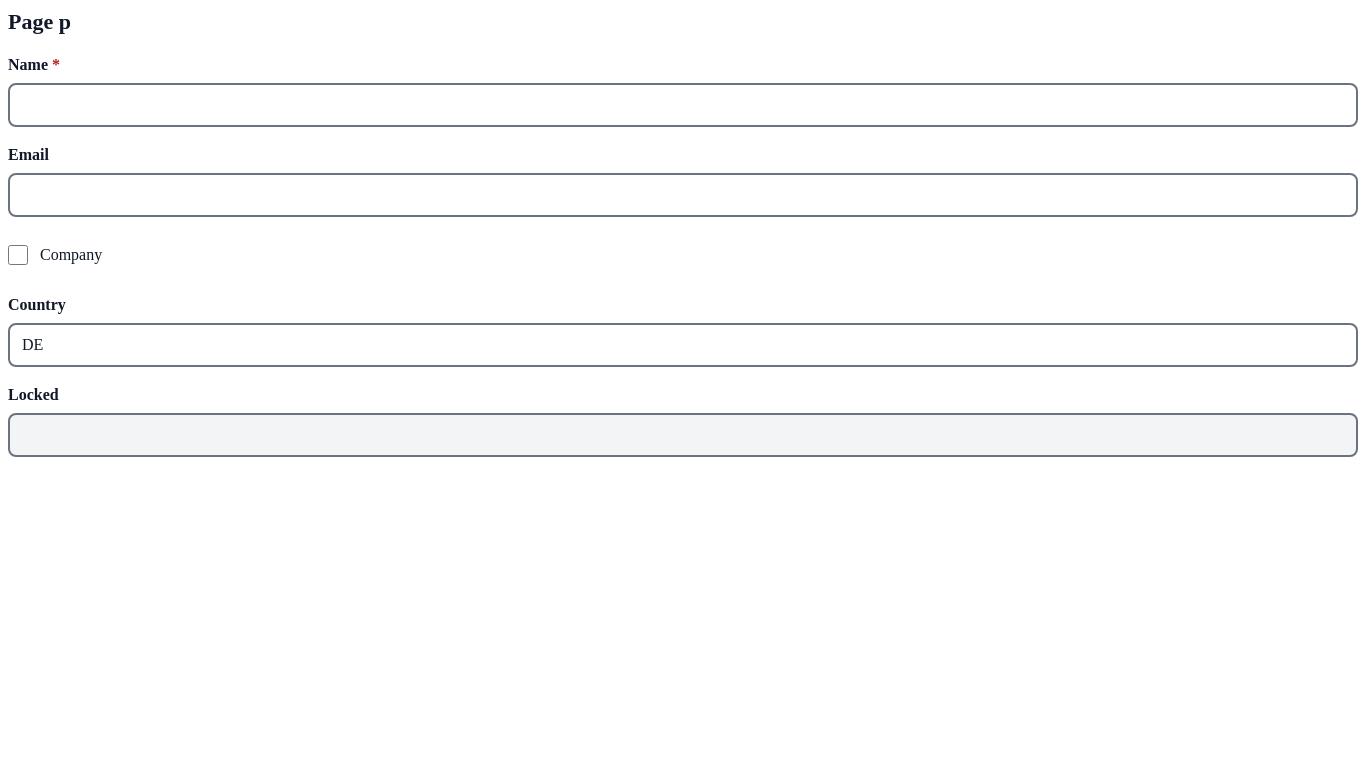
client errors › marks required fields, including requiredIf while empty
The image size is (1366, 768).
Expected: the field labelled "VAT id" is not shown
Click the checkbox labelled "Company": (18,255) [8,245,28,265]
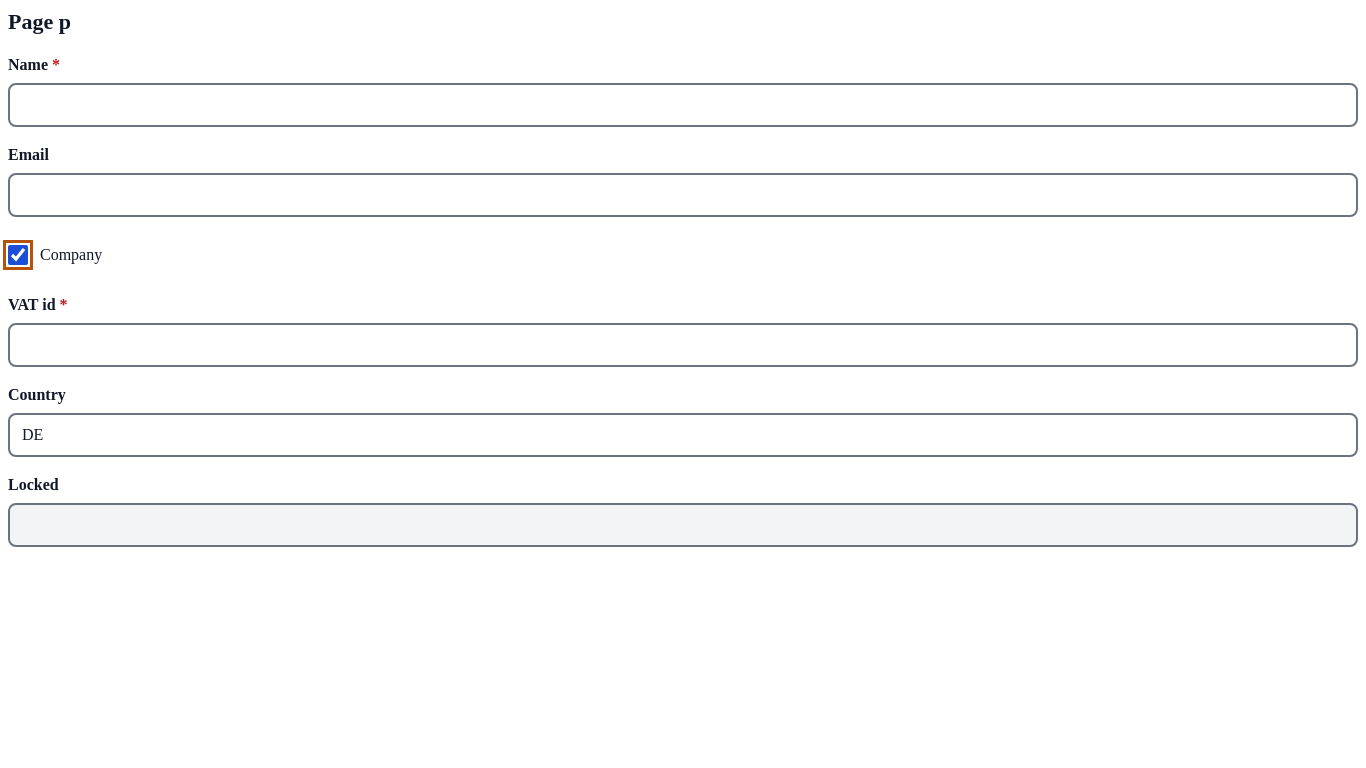
In the field labelled "VAT id *": (683,345) [8,323,1358,367], type "DE1"
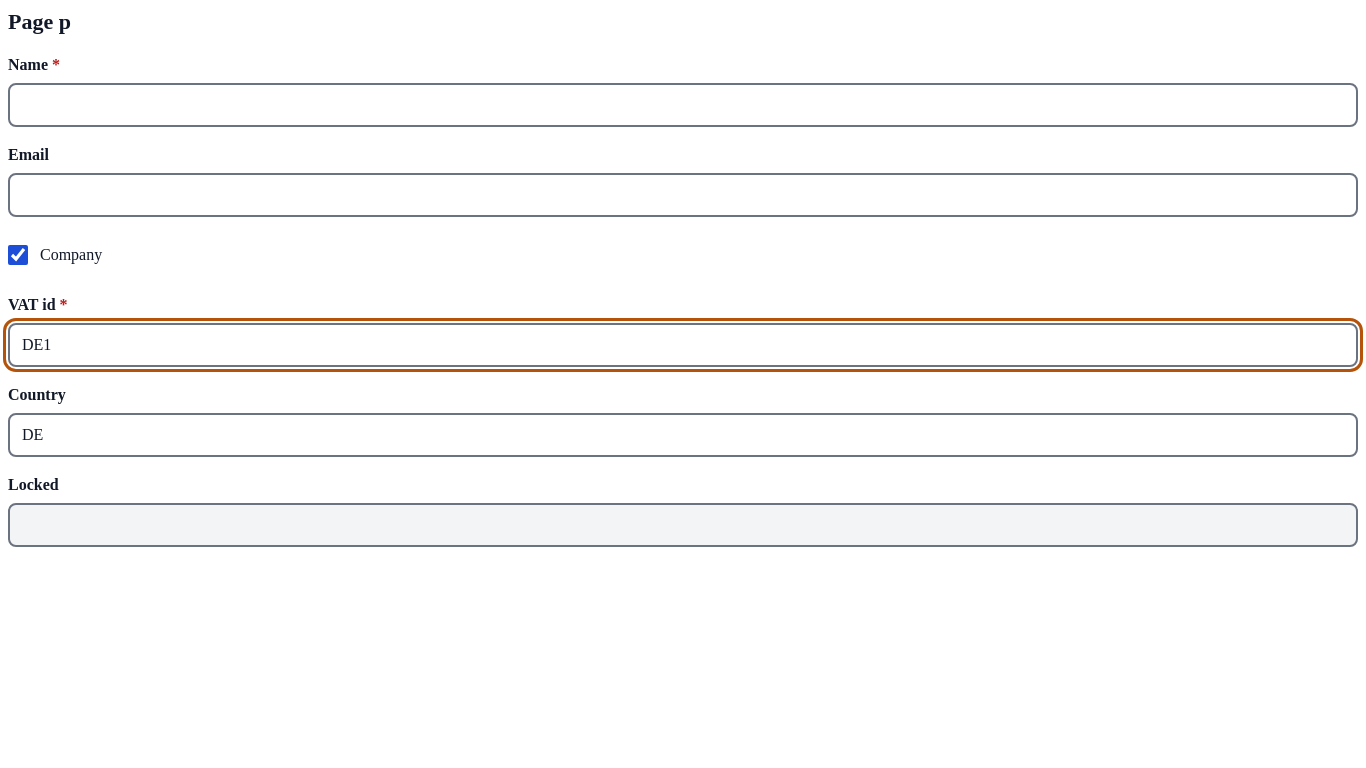
Click the checkbox labelled "Company": (18,255) [8,245,28,265]
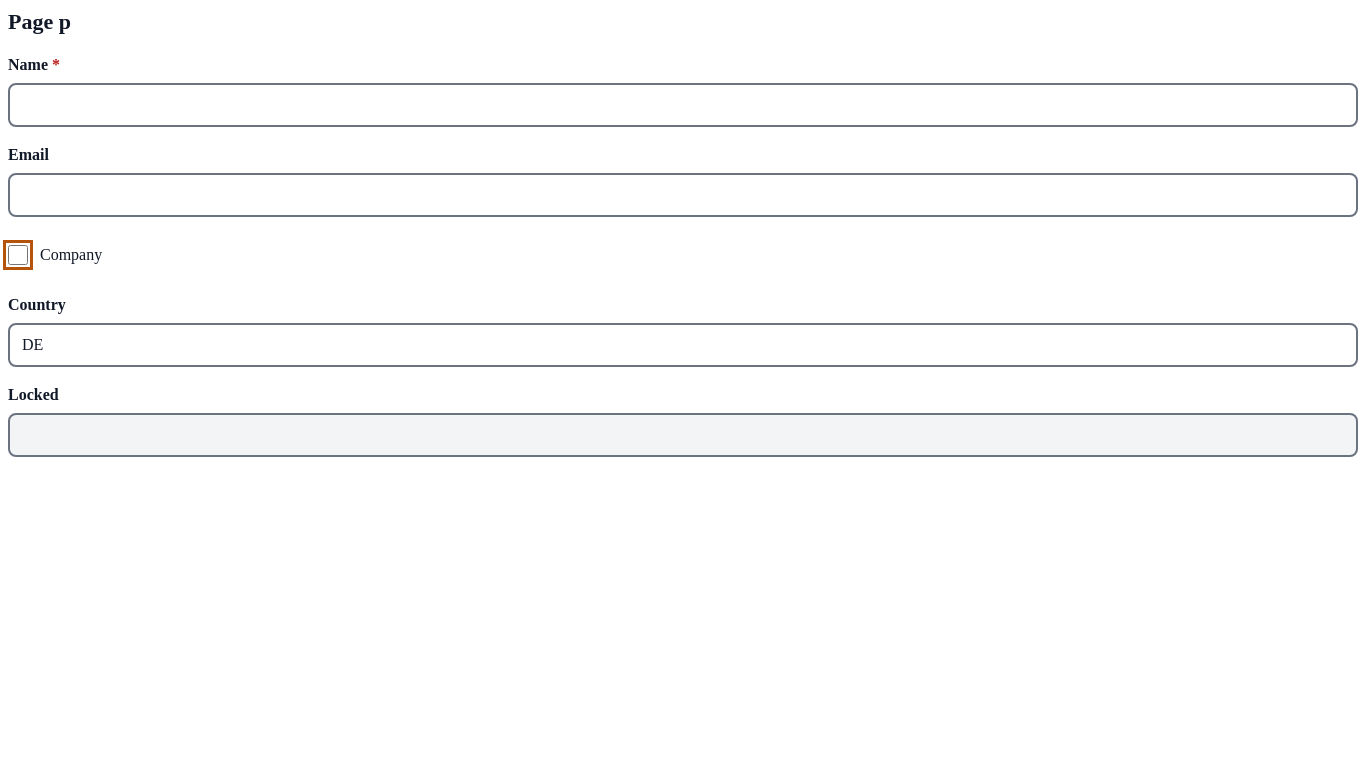
Expected: the label labelled "VAT id" is gone
